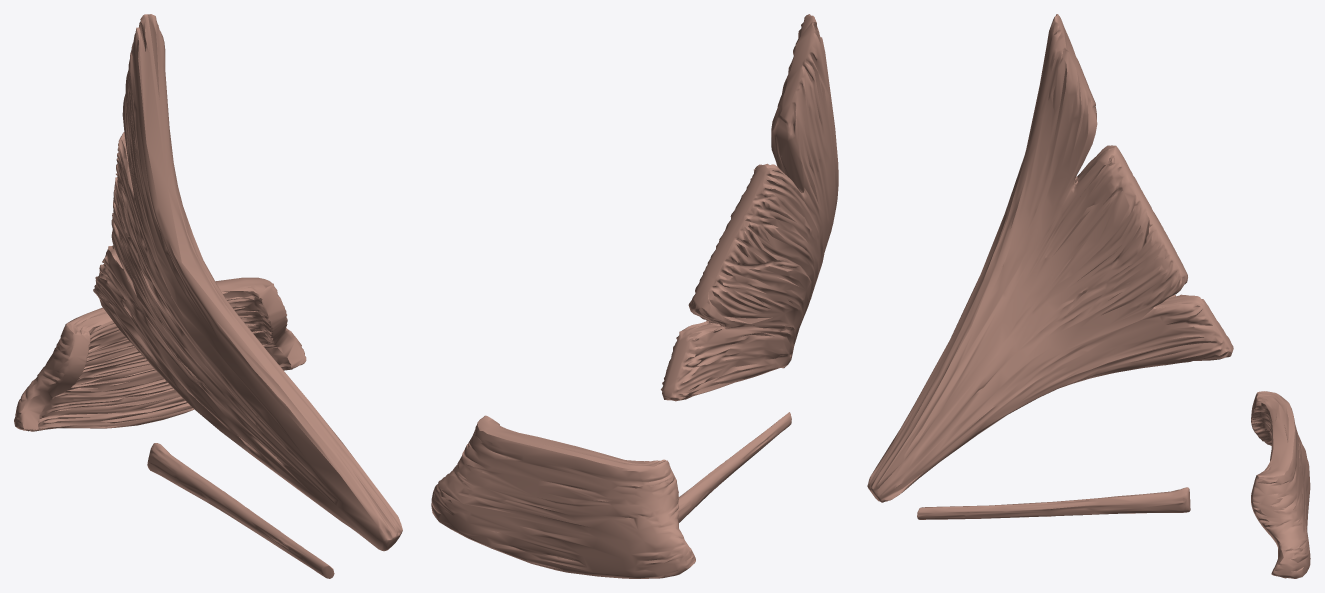
File: neck-2.glb
The picture shows the model from 3 angles, left to right: view 1: azimuth 30°, elevation 25°; view 2: azimuth 150°, elevation 25°; view 3: azimuth 270°, elevation 25°; orthographic projection. The views are drawn at different scales.
Visible parts, largest first — view 1: FJ2803, FJ2809, FJ2806; view 2: FJ2803, FJ2809, FJ2806; view 3: FJ2803, FJ2809, FJ2806.
Boxes of the visible parts, x1=… form: FJ2803: x1=93, y1=14, x2=402, y2=551; FJ2809: x1=14, y1=277, x2=306, y2=431; FJ2806: x1=147, y1=443, x2=334, y2=578; FJ2803: x1=661, y1=14, x2=838, y2=401; FJ2809: x1=431, y1=415, x2=695, y2=578; FJ2806: x1=678, y1=412, x2=791, y2=522; FJ2803: x1=867, y1=14, x2=1233, y2=502; FJ2809: x1=1251, y1=391, x2=1310, y2=578; FJ2806: x1=917, y1=487, x2=1190, y2=519.
Bounding box in the file's own units: 0.0155 × 0.0266 × 0.0228.
